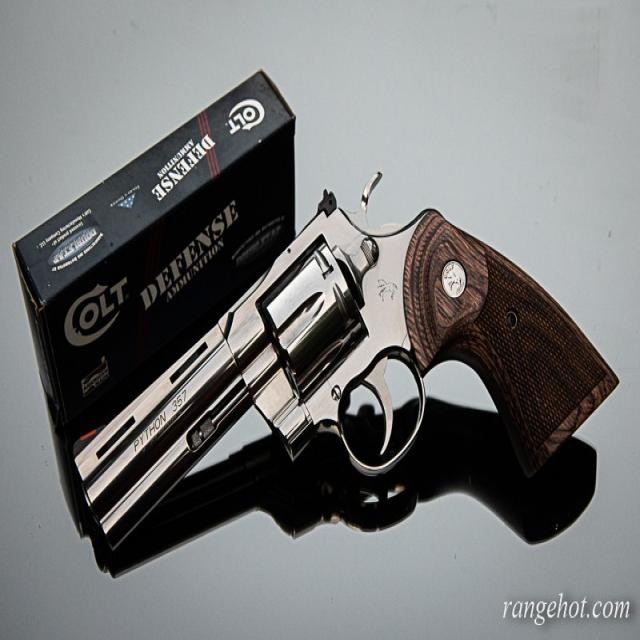handgun: (73, 148, 624, 566)
